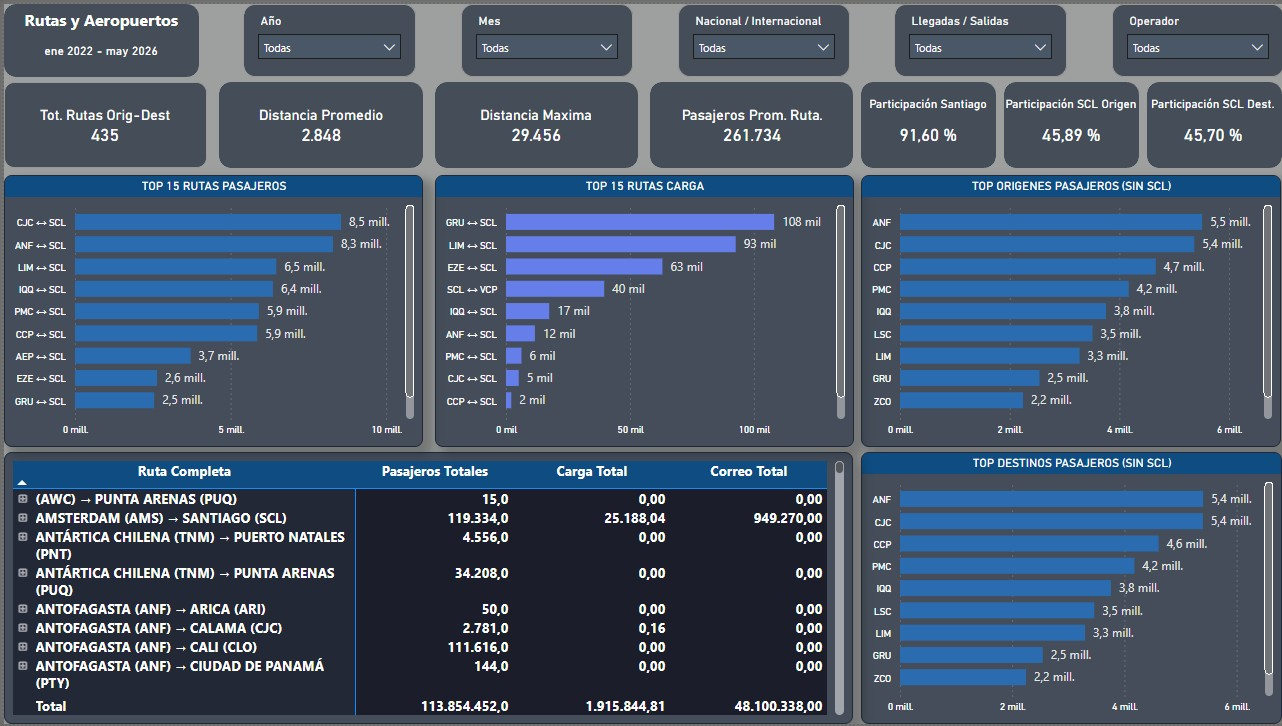

The page's visual inventory and layout, read from the dashboard file:
{"tool":"powerbi","page":{"name":"Rutas y Aeropuertos","canvas":[1280,720],"ordinal":1},"visuals":[{"type":"shape","box":[1000.2,78,135.1,86.1],"z":0},{"type":"shape","box":[1142.6,78,135.1,86.1],"z":1000},{"type":"shape","box":[856.9,78,135.1,86.1],"z":2000},{"type":"shape","box":[1107.7,0,172.3,72.5],"z":3000},{"type":"shape","box":[0,78.1,203.1,86.1],"z":4000},{"type":"shape","box":[239.7,0,172.3,72.5],"z":5000},{"type":"slicer","fields":{"Values":["DIM_Calendario.Año"]},"box":[239.4,0,172.3,72.5],"z":6000},{"type":"shape","box":[456.7,0,172.3,72.5],"z":7000},{"type":"slicer","fields":{"Values":["DIM_Operador.Operador"]},"box":[1108.1,0,172.3,72.5],"z":8000},{"type":"shape","box":[673.7,0,172.3,72.5],"z":9000},{"type":"slicer","fields":{"Values":["DIM_Nac/Int.NAC"]},"box":[673.8,0,172.3,72.5],"z":10000},{"type":"shape","box":[890.7,0,172.3,72.5],"z":11000},{"type":"slicer","fields":{"Values":["DIM_Operacion.Llegadas / Salidas"]},"box":[890.5,0,172.3,72.5],"z":12000},{"type":"cardVisual","fields":{"Data":["Medidas.Rutas Distintas"]},"box":[0,78.1,203.1,86.1],"z":13000},{"type":"shape","box":[215.5,78.1,203.1,86.1],"z":14000},{"type":"cardVisual","fields":{"Data":["Medidas.Distancia Promedio"]},"box":[215.8,78.1,203.1,86.1],"z":15000},{"type":"shape","box":[430.9,78.1,203.1,86.1],"z":16000},{"type":"cardVisual","fields":{"Data":["Medidas.Distancia Maxima"]},"box":[430.7,78.1,203.1,86.1],"z":17000},{"type":"shape","box":[646.4,78.1,203.1,86.1],"z":18000},{"type":"cardVisual","fields":{"Data":["Medidas.Pasajeros por Ruta Promedio"]},"box":[646.5,78,203.1,86.1],"z":19000},{"type":"slicer","fields":{"Values":["DIM_Calendario.Mes"]},"box":[457,0,172.3,72.5],"z":20000},{"type":"barChart","title":"TOP 15 RUTAS PASAJEROS","fields":{"Category":["FACT_Transito_Aereo.Ruta Consolidada"],"Y":["Medidas.Pasajeros Totales"]},"box":[0,171.4,418.9,272],"z":21000},{"type":"shape","box":[0,0,195,72.5],"z":22000},{"type":"textbox","box":[7.3,0,180.5,36.3],"z":23000},{"type":"cardVisual","fields":{"Data":["Medidas.Periodo Seleccionado"]},"box":[0,18.1,195,54.4],"z":24000},{"type":"barChart","title":"TOP 15 RUTAS CARGA","fields":{"Category":["FACT_Transito_Aereo.Ruta Consolidada"],"Y":["Medidas.Carga Total"]},"box":[430.7,171.4,418.9,272],"z":25000},{"type":"barChart","title":"TOP ORIGENES PASAJEROS (SIN SCL)","fields":{"Y":["Medidas.Pasajeros Totales"],"Category":["DIM_Origen.ORIG_1"]},"box":[856.9,171.4,419.8,272],"z":26000},{"type":"barChart","title":"TOP DESTINOS PASAJEROS (SIN SCL)","fields":{"Y":["Medidas.Pasajeros Totales"],"Category":["DIM_Destino.DEST_1"]},"box":[856.9,448,420.8,272],"z":27000},{"type":"cardVisual","fields":{"Data":["Medidas.% Pasajeros Origen Santiago"]},"box":[1000.2,103.4,135.1,52.6],"z":28000},{"type":"textbox","box":[992,85.2,151.4,36.3],"z":29000},{"type":"cardVisual","fields":{"Data":["Medidas.% Pasajeros Destino Santiago"]},"box":[1141.7,103.4,135.1,52.6],"z":30000},{"type":"textbox","box":[1138,85.2,142.4,36.3],"z":31000},{"type":"cardVisual","fields":{"Data":["Medidas.Dominancia Santiago"]},"box":[856.9,103.4,135.1,52.6],"z":32000},{"type":"textbox","box":[848.8,85.2,151.4,36.3],"z":33000},{"type":"pivotTable","fields":{"Rows":["FACT_Transito_Aereo.Ruta Completa","DIM_Operador.Operador"],"Values":["Medidas.Pasajeros Totales","Medidas.Carga Total","Medidas.Correo Total"]},"box":[0,448,848.8,272],"z":34000}]}

Visuals, with their boxes in screenshot pixels (x1, y1, x2, y2), scaled from the page's 1280x720 canvas onto the 1282x726 screenshot:
shape: Rect(1002, 79, 1137, 165)
shape: Rect(1144, 79, 1280, 165)
shape: Rect(858, 79, 994, 165)
shape: Rect(1109, 0, 1281, 73)
shape: Rect(0, 79, 203, 166)
shape: Rect(240, 0, 413, 73)
slicer - DIM_Calendario.Año: Rect(240, 0, 412, 73)
shape: Rect(457, 0, 630, 73)
slicer - DIM_Operador.Operador: Rect(1110, 0, 1281, 73)
shape: Rect(675, 0, 847, 73)
slicer - DIM_Nac/Int.NAC: Rect(675, 0, 847, 73)
shape: Rect(892, 0, 1065, 73)
slicer - DIM_Operacion.Llegadas / Salidas: Rect(892, 0, 1064, 73)
cardVisual - Medidas.Rutas Distintas: Rect(0, 79, 203, 166)
shape: Rect(216, 79, 419, 166)
cardVisual - Medidas.Distancia Promedio: Rect(216, 79, 420, 166)
shape: Rect(432, 79, 635, 166)
cardVisual - Medidas.Distancia Maxima: Rect(431, 79, 635, 166)
shape: Rect(647, 79, 851, 166)
cardVisual - Medidas.Pasajeros por Ruta Promedio: Rect(648, 79, 851, 165)
slicer - DIM_Calendario.Mes: Rect(458, 0, 630, 73)
"TOP 15 RUTAS PASAJEROS" barChart: Rect(0, 173, 420, 447)
shape: Rect(0, 0, 195, 73)
textbox: Rect(7, 0, 188, 37)
cardVisual - Medidas.Periodo Seleccionado: Rect(0, 18, 195, 73)
"TOP 15 RUTAS CARGA" barChart: Rect(431, 173, 851, 447)
"TOP ORIGENES PASAJEROS (SIN SCL)" barChart: Rect(858, 173, 1279, 447)
"TOP DESTINOS PASAJEROS (SIN SCL)" barChart: Rect(858, 452, 1280, 725)
cardVisual - Medidas.% Pasajeros Origen Santiago: Rect(1002, 104, 1137, 157)
textbox: Rect(994, 86, 1145, 123)
cardVisual - Medidas.% Pasajeros Destino Santiago: Rect(1143, 104, 1279, 157)
textbox: Rect(1140, 86, 1281, 123)
cardVisual - Medidas.Dominancia Santiago: Rect(858, 104, 994, 157)
textbox: Rect(850, 86, 1002, 123)
pivotTable - FACT_Transito_Aereo.Ruta Completa x DIM_Operador.Operador: Rect(0, 452, 850, 725)
